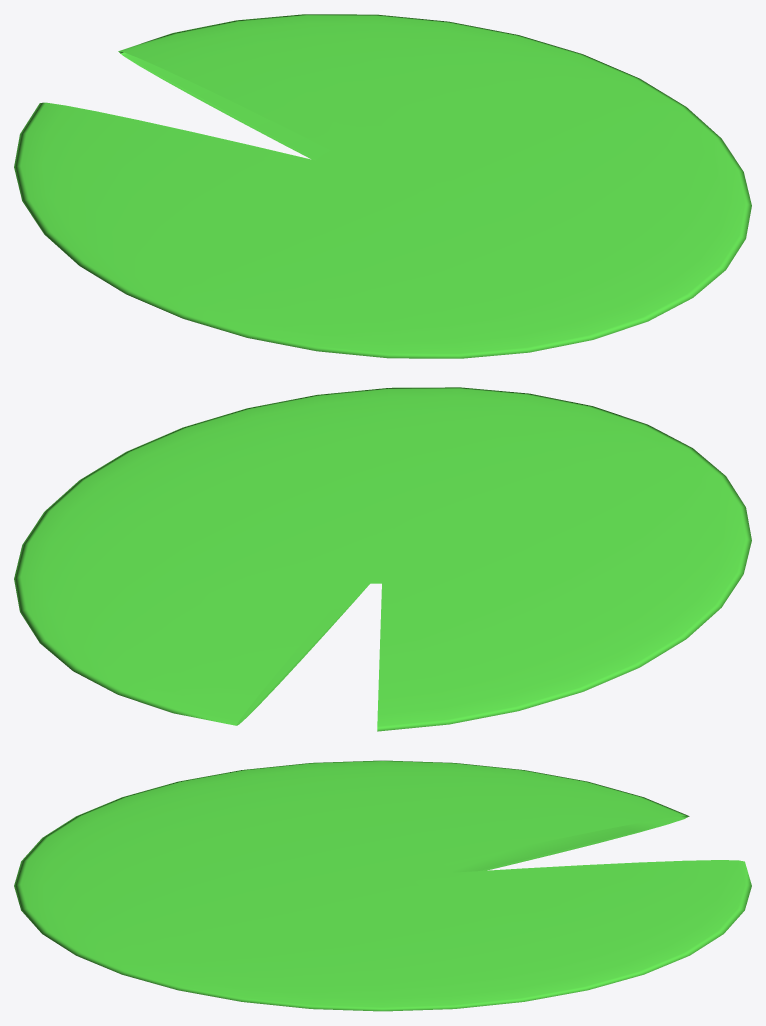
Rendered from water lilly.glb.
3 views of the same model, one above another, from view 1: azimuth 30°, elevation 25°; view 2: azimuth 150°, elevation 25°; view 3: azimuth 270°, elevation 25° (orthographic). The views are drawn at different scales.
Parts seen in each view (by area): view 1: Sphere; view 2: Sphere; view 3: Sphere.
Part boxes in pixels (bbox=[...]): Sphere: bbox=[14, 14, 751, 358]; Sphere: bbox=[14, 387, 751, 731]; Sphere: bbox=[14, 760, 751, 1011].
Bounding box in the file's own units: 9.42 × 0.3329 × 11.27.
